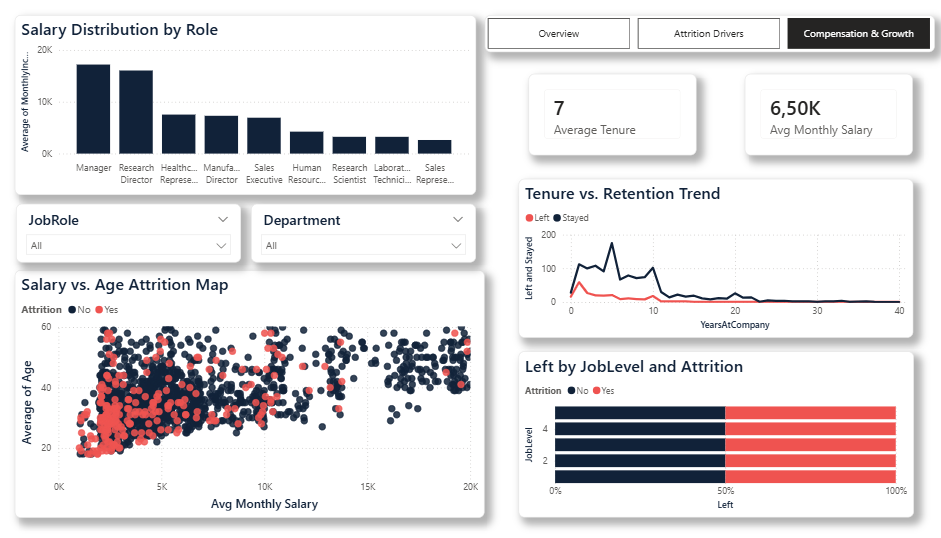

This screenshot's page, from the dashboard's own definition file:
{"tool":"powerbi","page":{"name":"Compensation & Growth","canvas":[1280,720],"ordinal":2},"visuals":[{"type":"cardVisual","fields":{"Data":["WA_Fn-UseC_-HR-Employee-Attrition.avg monthly income"]},"box":[998.9,98.9,224.4,108.6],"z":0},{"type":"cardVisual","fields":{"Data":["WA_Fn-UseC_-HR-Employee-Attrition.avg years company"]},"box":[709.4,98.9,224.4,108.6],"z":1},{"type":"clusteredColumnChart","title":"Salary Distribution by Role","fields":{"Y":["Avg(WA_Fn-UseC_-HR-Employee-Attrition.MonthlyIncome)"],"Category":["WA_Fn-UseC_-HR-Employee-Attrition.JobRole"]},"box":[25,20,615,240],"z":2},{"type":"lineChart","title":"Tenure vs. Retention Trend","fields":{"Category":["WA_Fn-UseC_-HR-Employee-Attrition.YearsAtCompany"],"Y":["WA_Fn-UseC_-HR-Employee-Attrition.Left","WA_Fn-UseC_-HR-Employee-Attrition.Stayed"]},"box":[696.7,238.3,526.7,211.7],"z":3},{"type":"scatterChart","title":"Salary vs. Age Attrition Map","fields":{"Category":["WA_Fn-UseC_-HR-Employee-Attrition.EmployeeNumber"],"X":["WA_Fn-UseC_-HR-Employee-Attrition.Avg Monthly Salary"],"Y":["Avg(WA_Fn-UseC_-HR-Employee-Attrition.Age)"],"Series":["WA_Fn-UseC_-HR-Employee-Attrition.Attrition"]},"box":[25,360,626.7,330],"z":4},{"type":"hundredPercentStackedBarChart","fields":{"Category":["WA_Fn-UseC_-HR-Employee-Attrition.JobLevel"],"Series":["WA_Fn-UseC_-HR-Employee-Attrition.Attrition"],"Y":["WA_Fn-UseC_-HR-Employee-Attrition.Left"]},"box":[696.1,468.1,527.2,222],"z":5},{"type":"pageNavigator","box":[651.5,20.5,599.6,49.5],"z":6},{"type":"slicer","fields":{"Values":["WA_Fn-UseC_-HR-Employee-Attrition.JobRole"]},"box":[27.1,271.4,300,78.6],"z":7},{"type":"slicer","fields":{"Values":["WA_Fn-UseC_-HR-Employee-Attrition.Department"]},"box":[340,271.4,300,78.6],"z":8}]}

Visuals, with their boxes in screenshot pixels (x1, y1, x2, y2), scaled from the page's 1280x720 canvas onto the 941x538 screenshot:
cardVisual - WA_Fn-UseC_-HR-Employee-Attrition.avg monthly income: 734,74,899,155
cardVisual - WA_Fn-UseC_-HR-Employee-Attrition.avg years company: 522,74,686,155
"Salary Distribution by Role" clusteredColumnChart: 18,15,470,194
"Tenure vs. Retention Trend" lineChart: 512,178,899,336
"Salary vs. Age Attrition Map" scatterChart: 18,269,479,516
hundredPercentStackedBarChart - WA_Fn-UseC_-HR-Employee-Attrition.JobLevel x WA_Fn-UseC_-HR-Employee-Attrition.Attrition: 512,350,899,516
pageNavigator: 479,15,920,52
slicer - WA_Fn-UseC_-HR-Employee-Attrition.JobRole: 20,203,240,262
slicer - WA_Fn-UseC_-HR-Employee-Attrition.Department: 250,203,470,262
